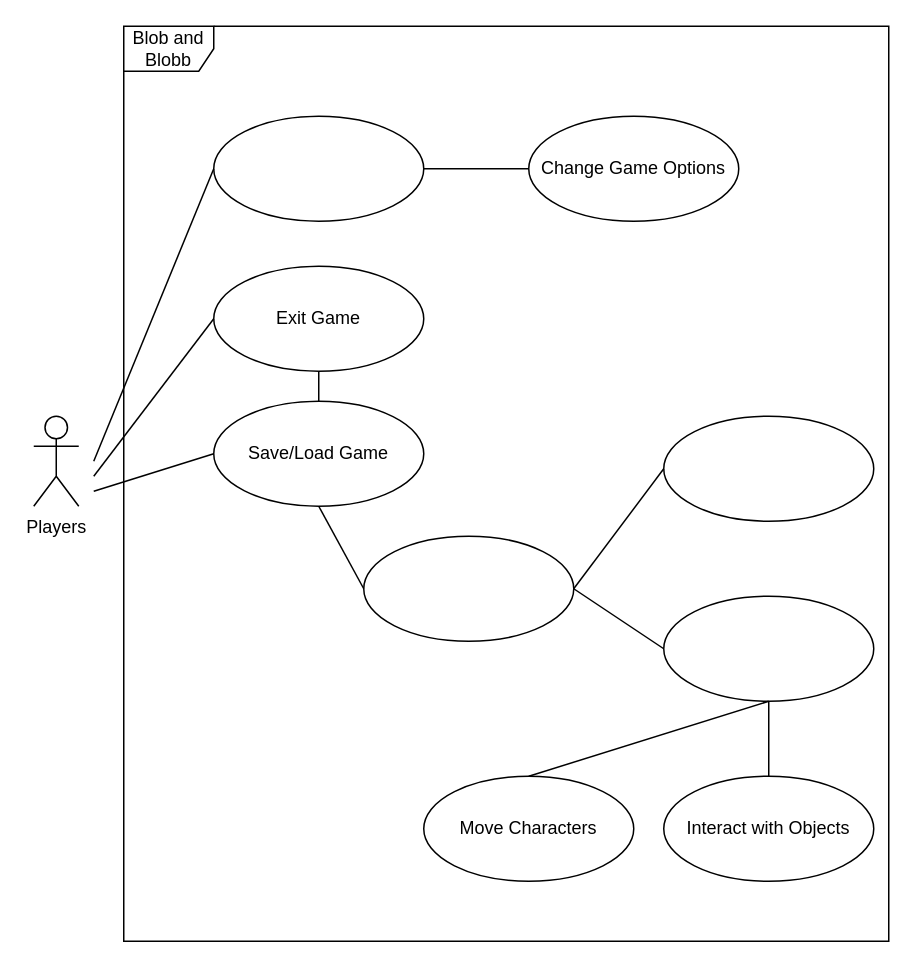
Some shapes in this 915 by 968 pixel diagram are drawn without their labels. Here are the shapes that lost their labels. From the top down, the centre of each, then its label:
the point at 318,168: Display Game Options
the point at 768,468: Solve Levels
the point at 468,588: Play Game
the point at 768,648: Control Characters
